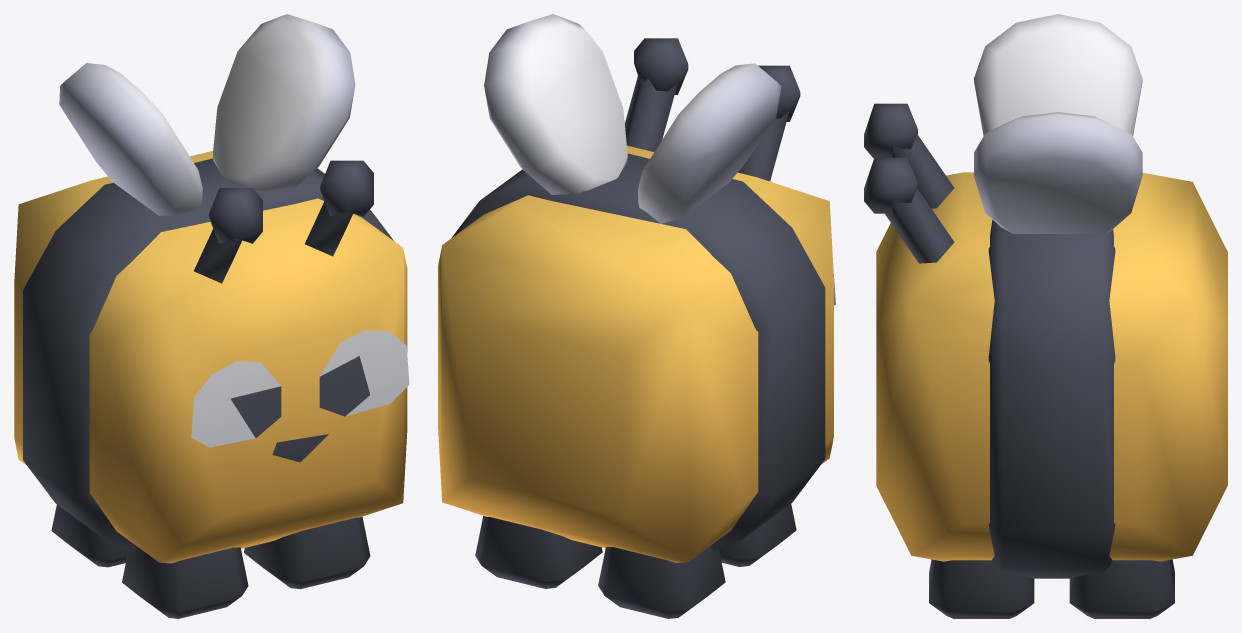
File: cc0-bee-lod1.glb
3 views of the same model, side by side, from view 1: azimuth 30°, elevation 25°; view 2: azimuth 150°, elevation 25°; view 3: azimuth 270°, elevation 25° (orthographic).
Parts seen in each view (by area): view 1: part_1, part_2, part_3, part_7, part_6, part_5; view 2: part_1, part_2, part_3, part_5, part_4, part_7; view 3: part_1, part_2, part_3, part_6, part_4.
Part boxes in pixels (<box>): part_1: <box>14,151,409,563</box>; part_2: <box>213,14,355,190</box>; part_3: <box>59,63,202,216</box>; part_7: <box>122,546,248,618</box>; part_6: <box>244,517,370,589</box>; part_5: <box>51,505,128,567</box>; part_1: <box>438,38,835,562</box>; part_2: <box>484,14,627,194</box>; part_3: <box>638,63,781,223</box>; part_5: <box>598,546,725,618</box>; part_4: <box>475,516,602,588</box>; part_7: <box>719,504,796,566</box>; part_1: <box>864,103,1227,578</box>; part_2: <box>974,112,1142,234</box>; part_3: <box>974,14,1142,136</box>; part_6: <box>929,559,1034,618</box>; part_4: <box>1069,559,1174,618</box>.
Size of the model in its own units: 1.33 by 2 by 1.29.
Materials: 1 (1 with a texture image).
